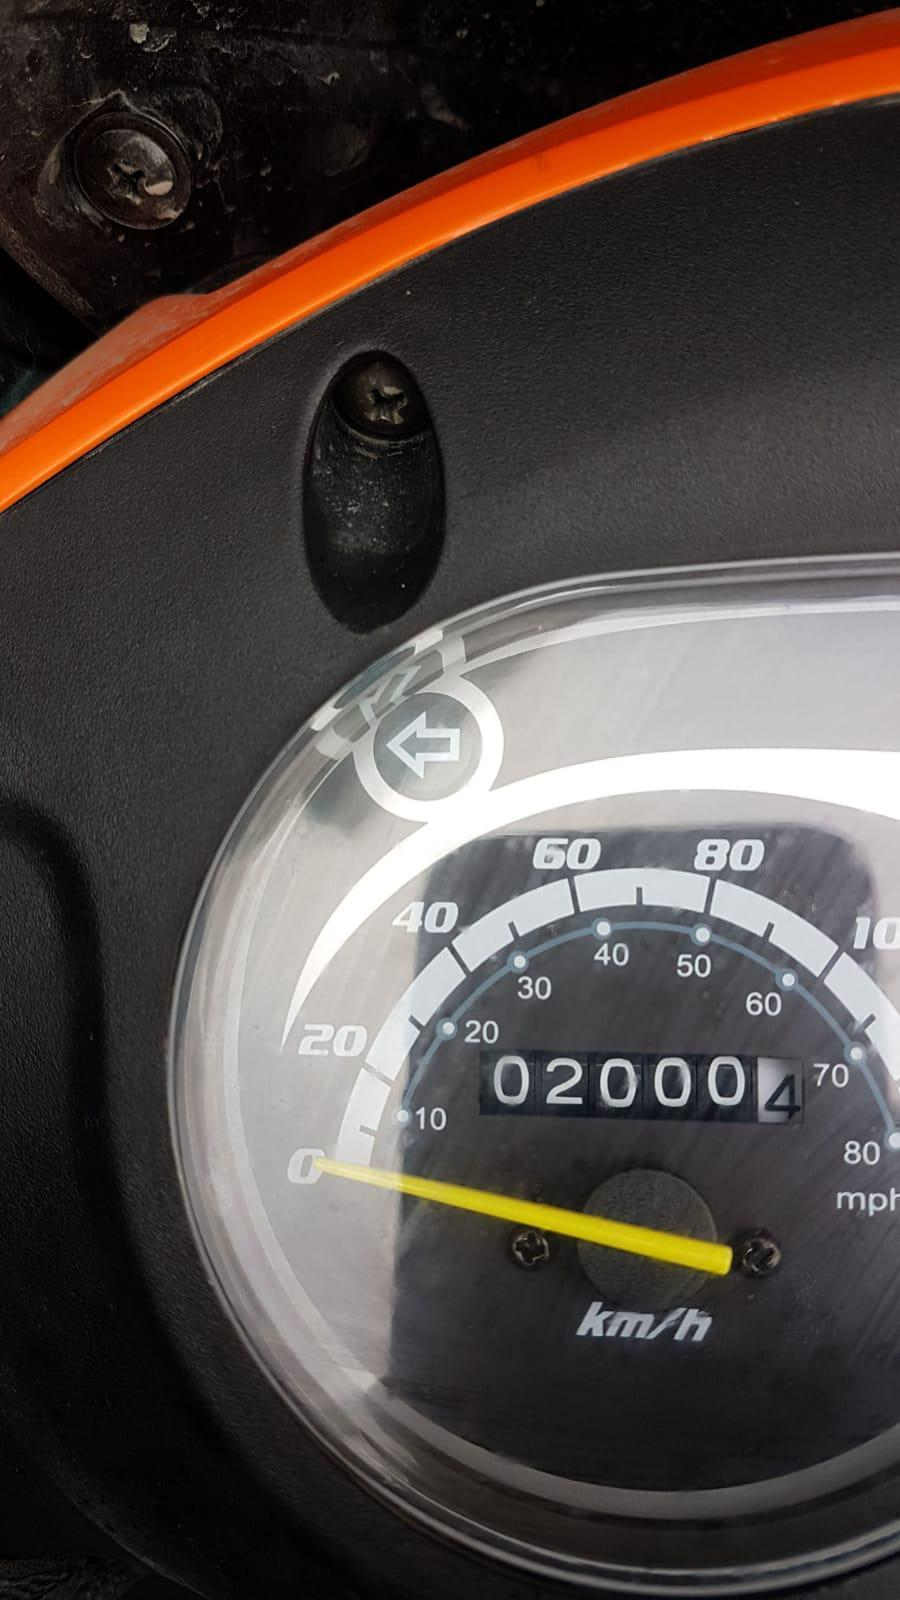0: (705, 1051, 748, 1111), (595, 1056, 640, 1111), (651, 1055, 695, 1111), (491, 1054, 533, 1109)
2: (543, 1051, 585, 1108)
4: (763, 1069, 804, 1124)
odometer: (473, 1044, 813, 1127)
